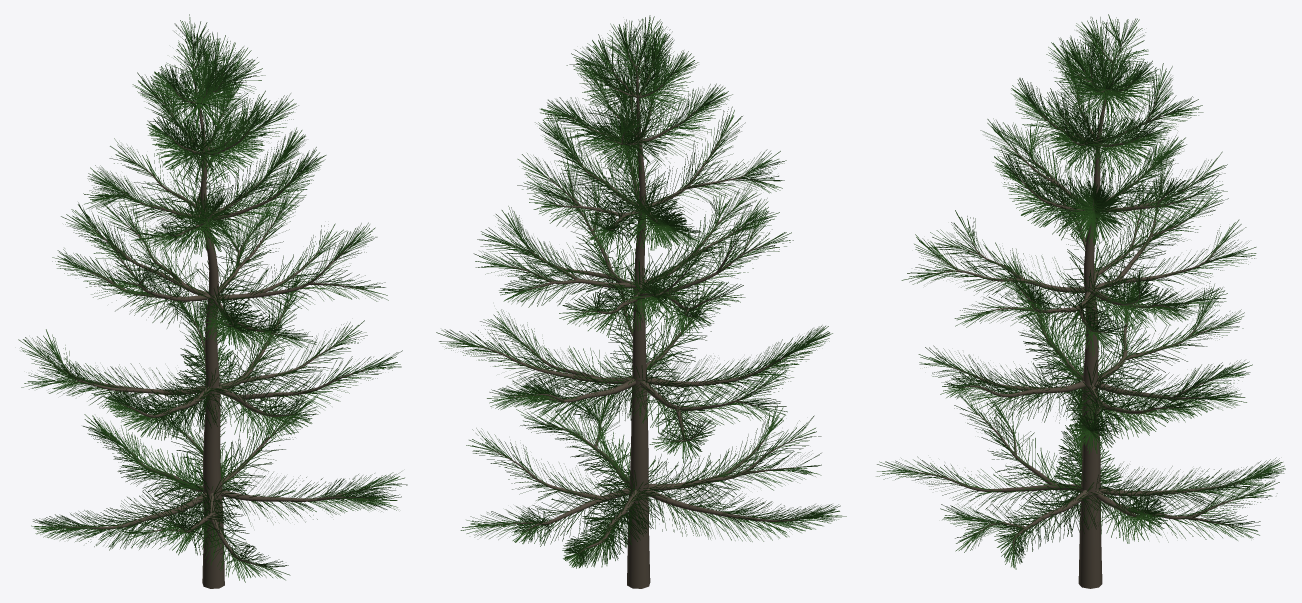
File: pineTree.glb
3 renders of one model, left to right at view 1: azimuth 30°, elevation 25°; view 2: azimuth 150°, elevation 25°; view 3: azimuth 270°, elevation 25°, orthographic. The views are drawn at different scales.
Parts seen in each view (by area): view 1: leaves, tree; view 2: leaves, tree; view 3: leaves, tree.
Part boxes in pixels (x1,y1,x2,y2): leaves: [18, 14, 407, 582]; tree: [39, 43, 382, 588]; leaves: [436, 15, 846, 568]; tree: [461, 42, 804, 588]; leaves: [876, 14, 1285, 569]; tree: [907, 40, 1261, 588].
Size of the model in its own units: 3.36 by 5.18 by 3.42.
